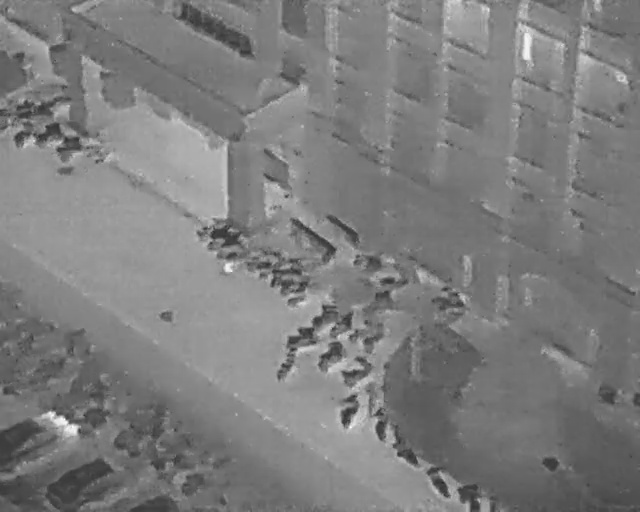Bicycle: (333, 349, 378, 393), (382, 425, 423, 473), (310, 334, 350, 378), (421, 459, 458, 503), (304, 298, 342, 335), (281, 321, 321, 354), (344, 314, 379, 348), (324, 308, 359, 342), (6, 118, 39, 151), (359, 320, 389, 356), (31, 119, 64, 147), (212, 229, 248, 254), (337, 394, 360, 433), (18, 102, 56, 124), (266, 262, 301, 285), (245, 252, 280, 275), (458, 481, 484, 511), (276, 279, 311, 301), (204, 219, 234, 241), (54, 138, 87, 158), (38, 92, 74, 110), (372, 405, 389, 442), (91, 147, 112, 166)
Car: (47, 447, 124, 511), (0, 411, 77, 472), (128, 491, 180, 511)
